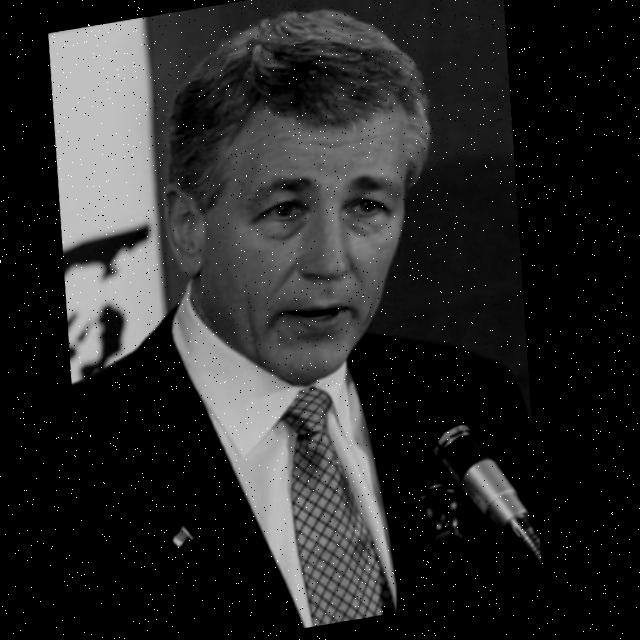face: (152, 0, 461, 415)
